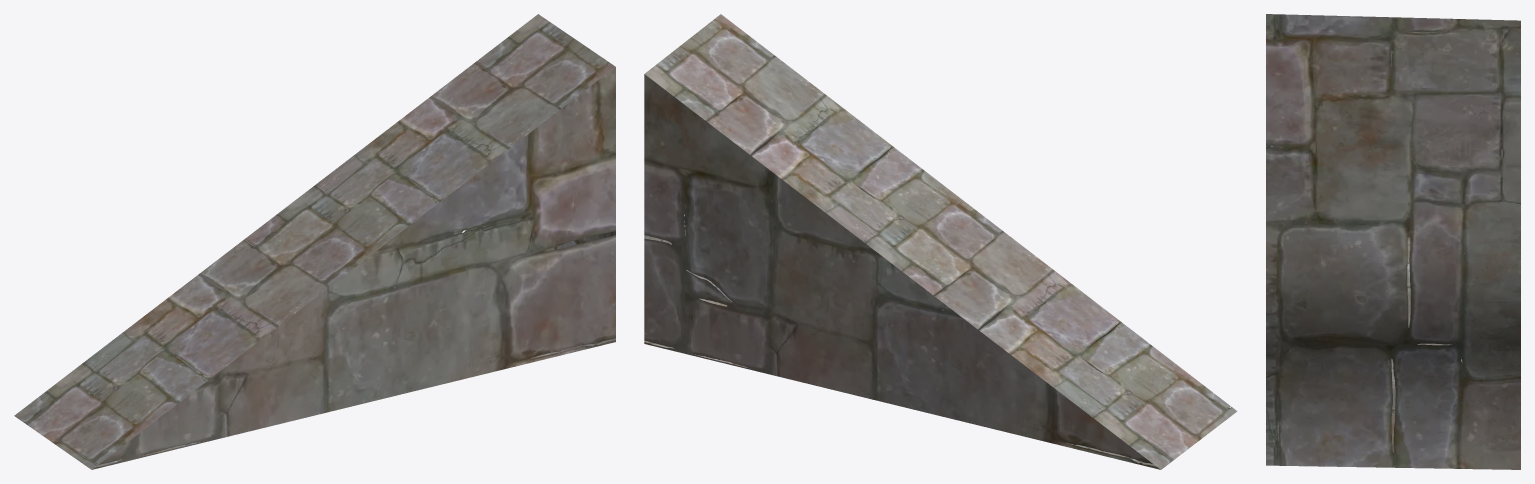
The picture shows the model from 3 angles, left to right: view 1: azimuth 30°, elevation 25°; view 2: azimuth 150°, elevation 25°; view 3: azimuth 270°, elevation 25°; orthographic projection. The views are drawn at different scales.
Parts seen in each view (by area): view 1: SM_BB_T3_Wall_Slanted_Med_Shallow_LOD0; view 2: SM_BB_T3_Wall_Slanted_Med_Shallow_LOD0; view 3: SM_BB_T3_Wall_Slanted_Med_Shallow_LOD0.
Part boxes in pixels (<box>): SM_BB_T3_Wall_Slanted_Med_Shallow_LOD0: <box>14,14,615,469</box>; SM_BB_T3_Wall_Slanted_Med_Shallow_LOD0: <box>644,14,1237,469</box>; SM_BB_T3_Wall_Slanted_Med_Shallow_LOD0: <box>1266,14,1520,469</box>.
Size of the model in its own units: 1.5 by 0.7593 by 0.3843.
Materials: 1 (1 with a texture image).
